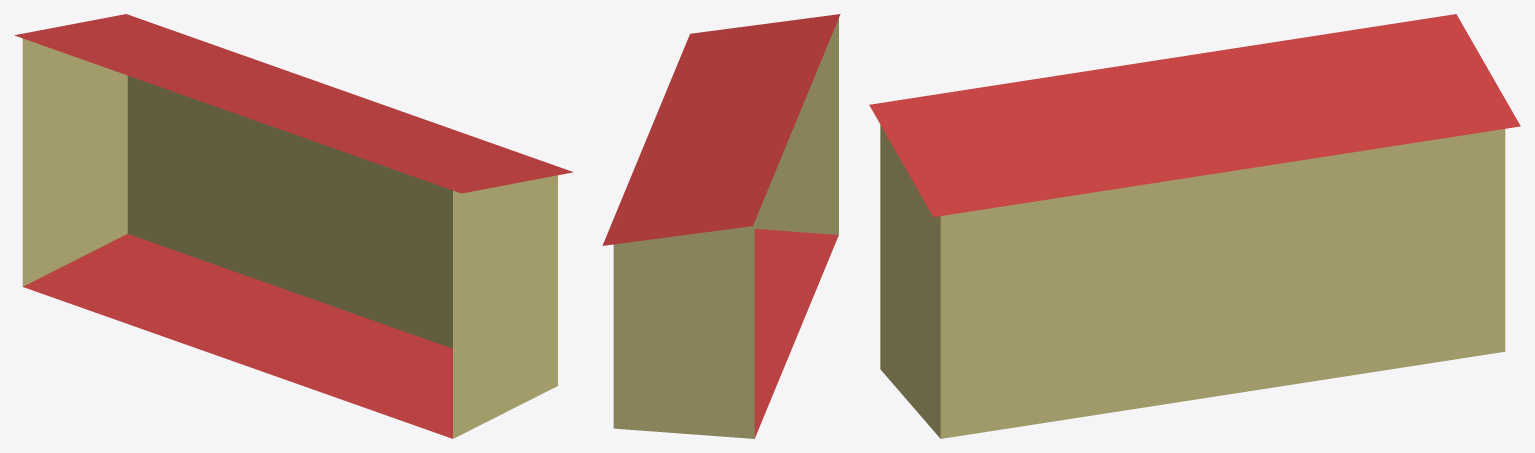
3 renders of one model, left to right at view 1: azimuth 30°, elevation 25°; view 2: azimuth 150°, elevation 25°; view 3: azimuth 270°, elevation 25°, orthographic. The views are drawn at different scales.
Bounding box in the file's own units: 8.07 × 13.45 × 6.07.
